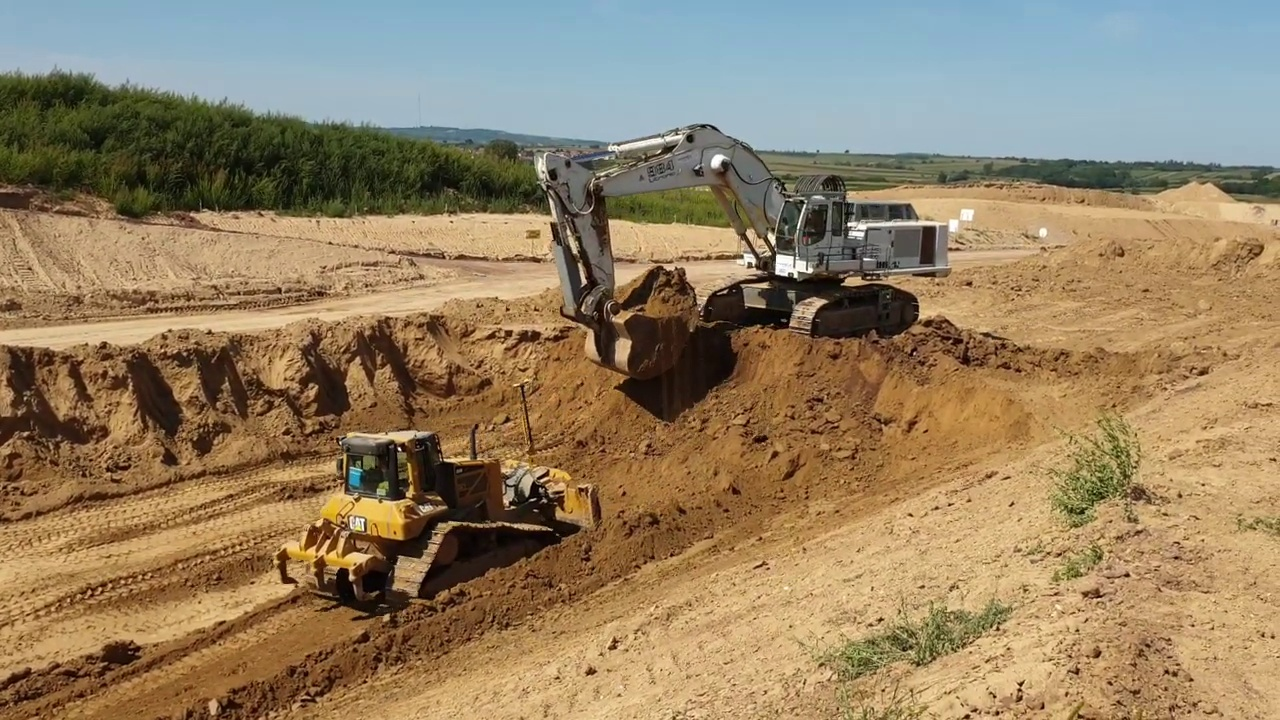bulldozer: (273, 383, 606, 616)
excavator: (528, 120, 959, 386)
